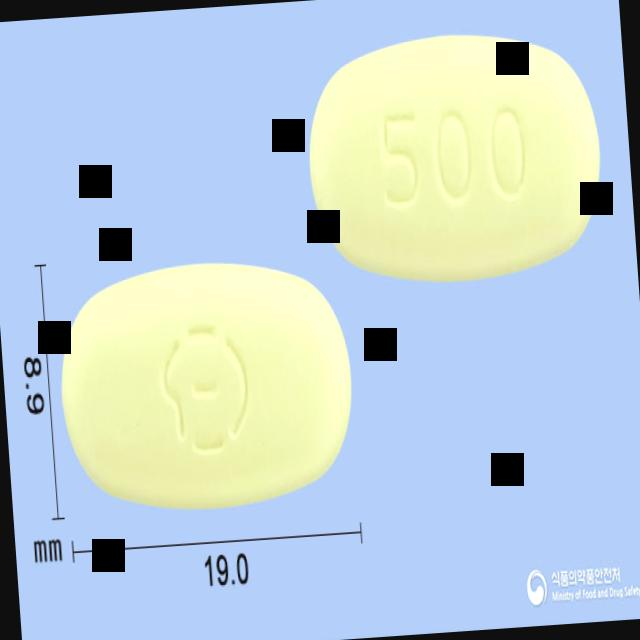Clarione: (296, 16, 614, 303), (48, 242, 364, 526)
